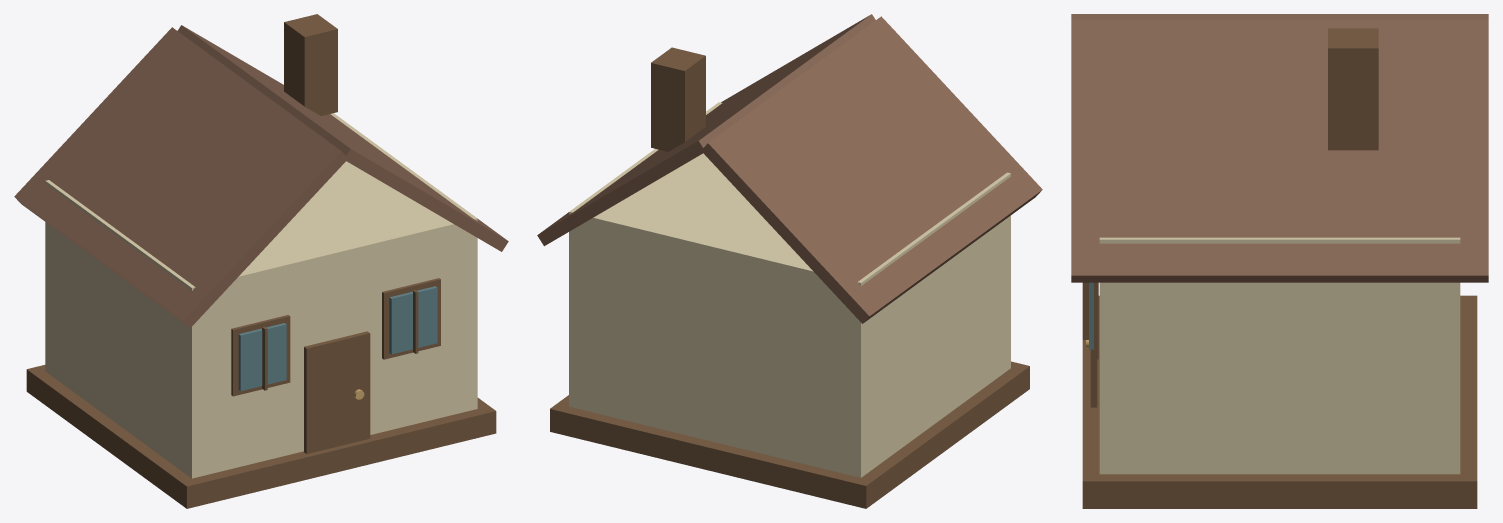
Rendered from house.glb.
The picture shows the model from 3 angles, left to right: view 1: azimuth 30°, elevation 25°; view 2: azimuth 150°, elevation 25°; view 3: azimuth 270°, elevation 25°; orthographic projection. The views are drawn at different scales.
Visible parts, largest first — view 1: House walls, Pitched roof (×2), Foundation, Front door, Window glass (×2), Chimney, Front window (×2); view 2: House walls, Pitched roof (×2), Foundation, Chimney; view 3: Pitched roof (×2), House walls, Foundation, Chimney.
Part boxes in pixels (x1,y1,x2,y2): House walls: (45,113,477,478); Pitched roof (×2): (14,25,508,327); Foundation: (26,365,496,508); Front door: (304,331,370,453); Window glass (×2): (238,286,437,390); Chimney: (284,14,337,115); Front window (×2): (231,278,440,396); House walls: (569,102,1010,477); Pitched roof (×2): (537,14,1042,323); Foundation: (550,361,1029,508); Chimney: (651,47,705,151); Pitched roof (×2): (1071,14,1488,282); House walls: (1099,237,1460,474); Foundation: (1082,295,1477,508); Chimney: (1328,28,1378,150).
Size of the model in its own units: 4.1 by 4.17 by 3.7.
